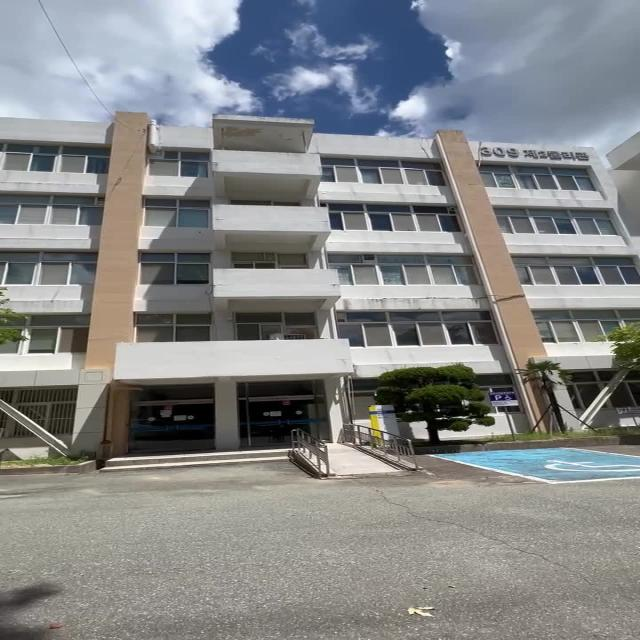building: (38, 114, 604, 369)
